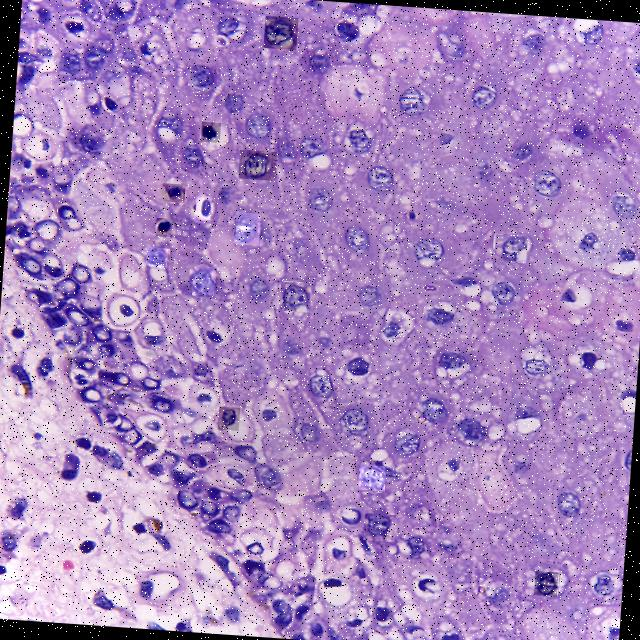Multiple Nucleol: (264, 15, 297, 48), (240, 150, 275, 178), (493, 233, 526, 260), (281, 279, 309, 310), (364, 513, 394, 538), (236, 212, 259, 244), (359, 465, 385, 490), (193, 265, 215, 294), (535, 571, 558, 594), (218, 406, 240, 429), (146, 247, 168, 266)
Nuclear Hyperchromatism: (195, 195, 210, 222), (162, 183, 184, 201), (201, 121, 220, 141), (156, 218, 173, 235)
